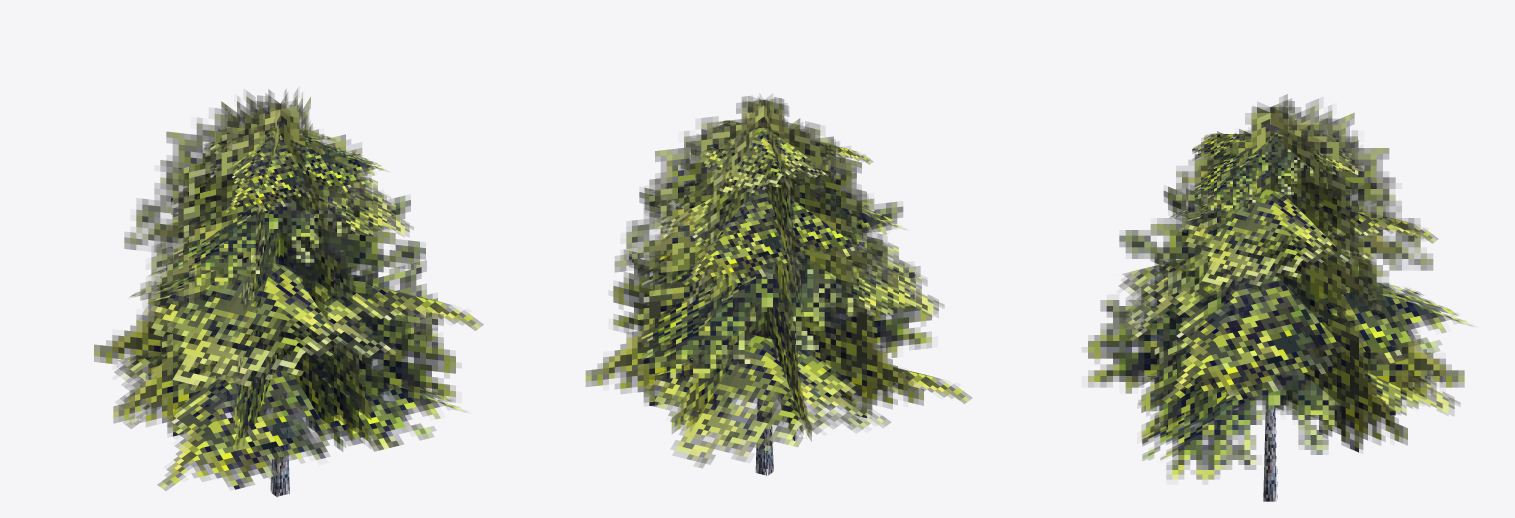
Rendered from Environment - Vegetation - Tree Oak Stump - PTMaple01.glb.
3 renders of one model, left to right at view 1: azimuth 30°, elevation 25°; view 2: azimuth 150°, elevation 25°; view 3: azimuth 270°, elevation 25°, orthographic. The views are drawn at different scales.
Parts seen in each view (by area): view 1: PTMAPLE01; view 2: PTMAPLE01; view 3: PTMAPLE01.
Part boxes in pixels (x1,y1,x2,y2): PTMAPLE01: [94, 89, 483, 497]; PTMAPLE01: [585, 94, 971, 475]; PTMAPLE01: [1088, 94, 1471, 501].
Bounding box in the file's own units: 36.57 × 34.85 × 37.78.
Materials: 1 (1 with a texture image).
